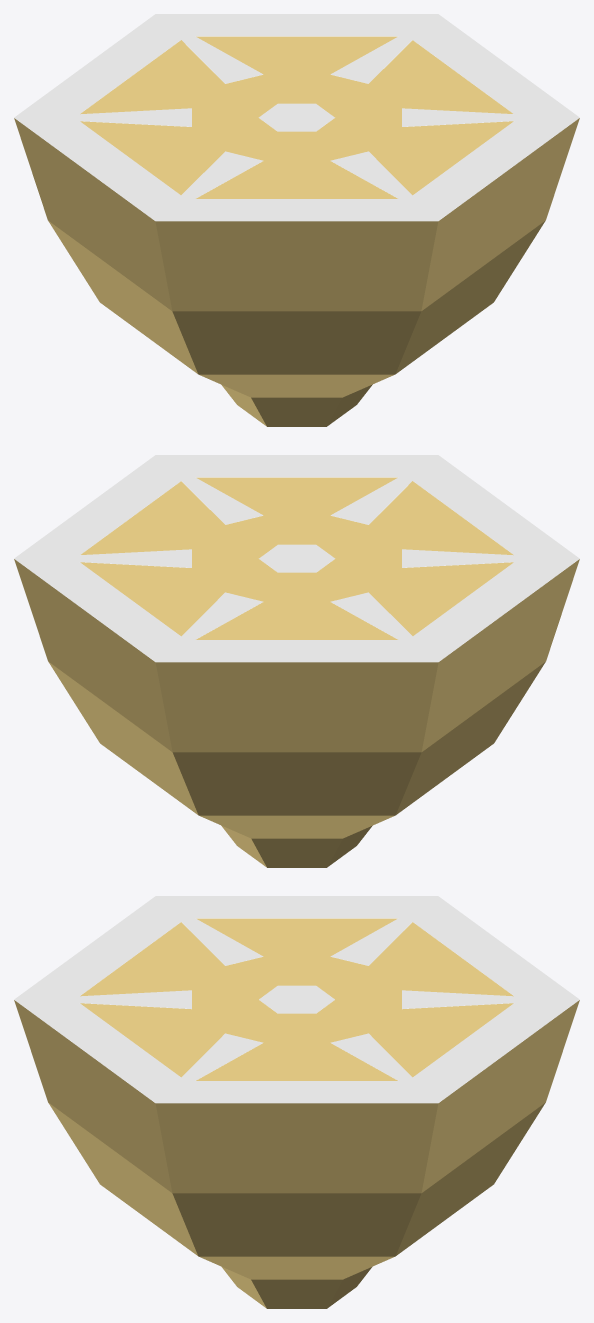
Rendered from lemon-half.glb.
3 renders of one model, top to bottom at view 1: azimuth 30°, elevation 25°; view 2: azimuth 150°, elevation 25°; view 3: azimuth 270°, elevation 25°, orthographic.
Visible parts, largest first — view 1: lemonHalf; view 2: lemonHalf; view 3: lemonHalf.
Boxes of the visible parts, x1,y1,x2,y2 form: lemonHalf: (14,14,579,426); lemonHalf: (14,455,579,867); lemonHalf: (14,896,579,1308).
Bounding box in the file's own units: 0.0693 × 0.0448 × 0.08.
